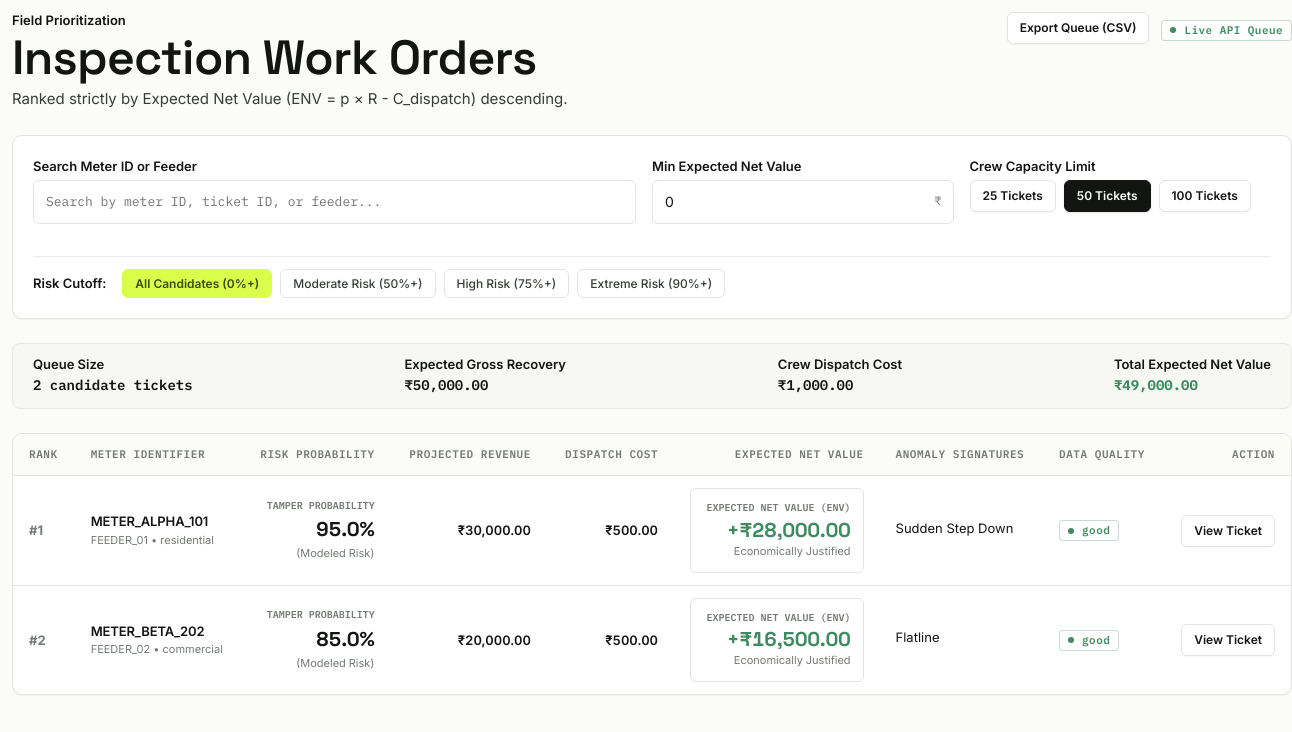
Test: InspectionQueueScreen Component › filters results client-side by meter ID search input
Expected: the text "METER_ALPHA_101" is shown, [91,512,226,531]
Expected: the text "METER_BETA_202" is shown, [91,623,204,639]
Step 1. Type "BETA" into the field with placeholder "Search by meter ID, ticket ID, or feeder..." → (334, 202), box [33,180,636,224]
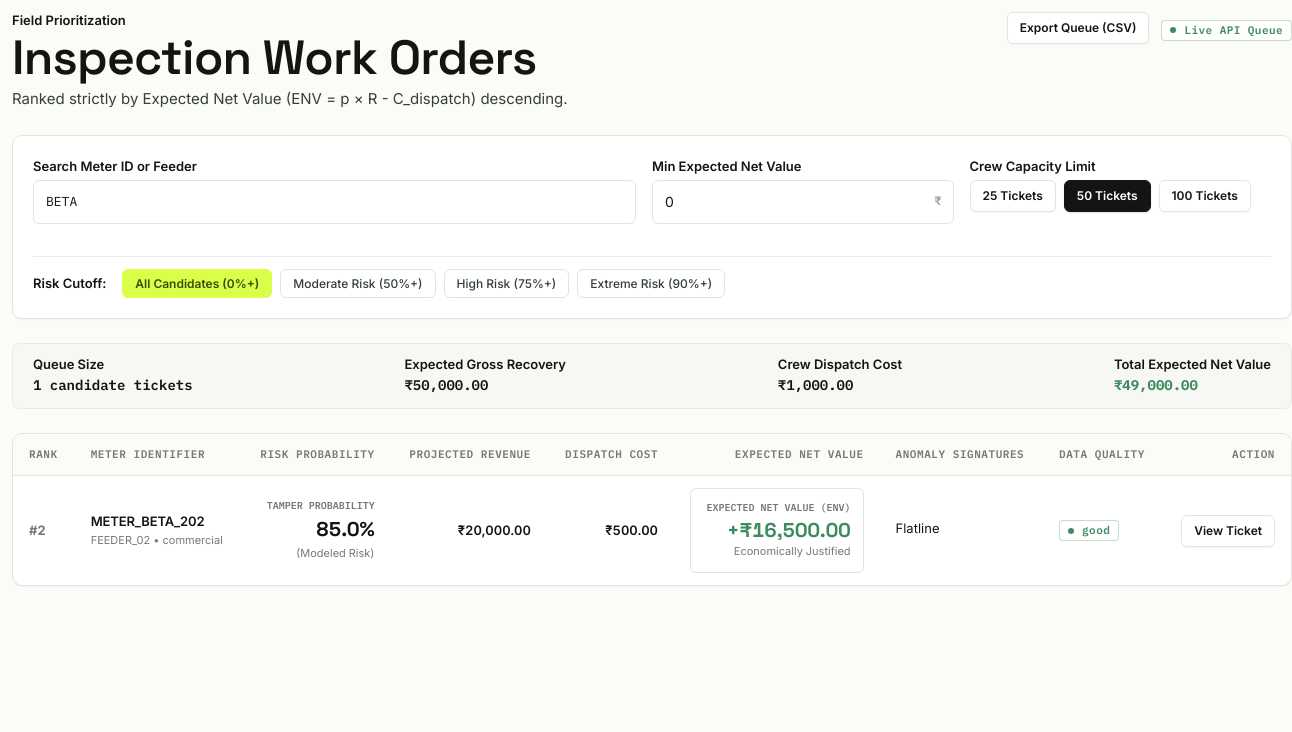
Expected: the text "METER_BETA_202" is shown, [91,513,204,529]
Expected: the text "METER_ALPHA_101" is gone
